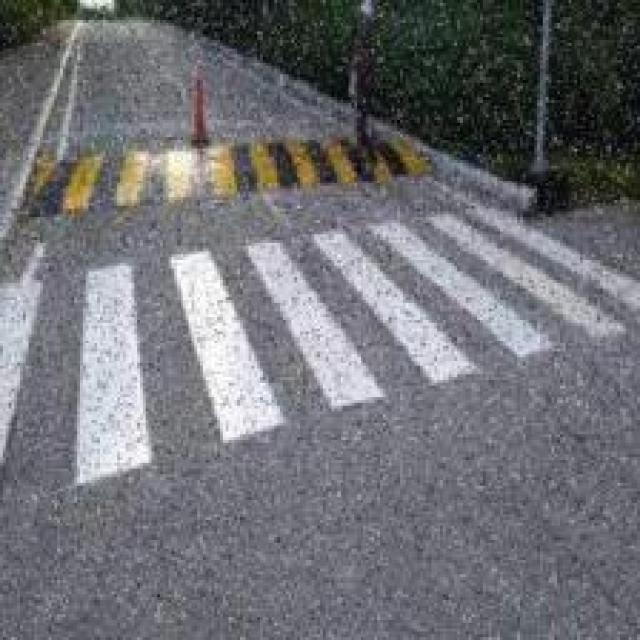crosswalk: (0, 201, 640, 510)
